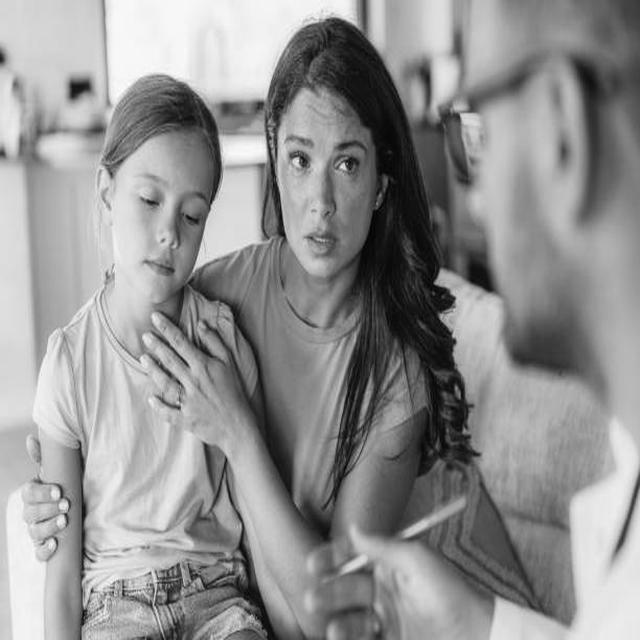Fear: (281, 92, 372, 277)
